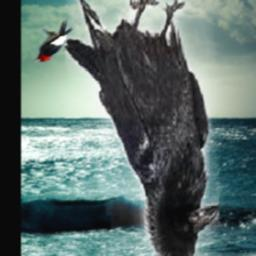Crow: (65, 0, 219, 256)
Woodpecker: (30, 17, 72, 62)
